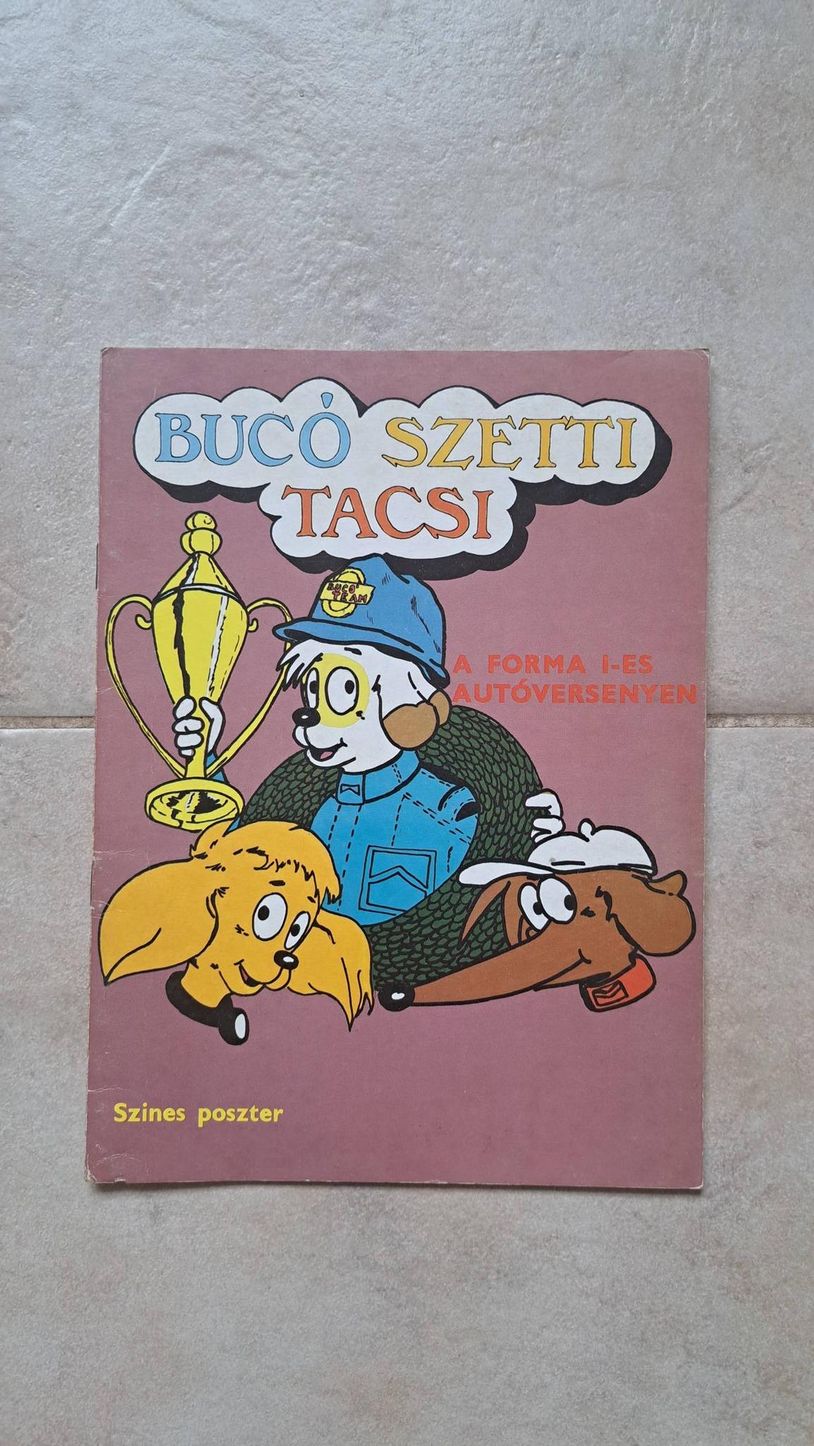comic: (87, 347, 707, 1187)
